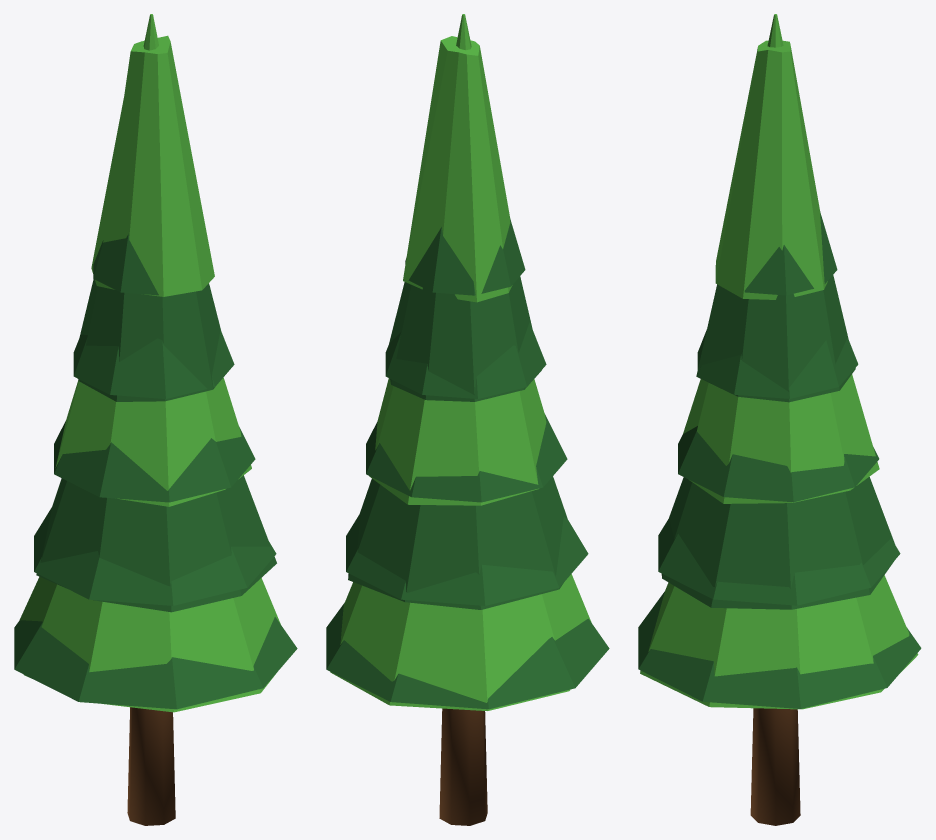
Rendered from hd_pine_b.gltf.
3 renders of one model, left to right at view 1: azimuth 30°, elevation 25°; view 2: azimuth 150°, elevation 25°; view 3: azimuth 270°, elevation 25°, orthographic.
Parts seen in each view (by area): view 1: tier4, tier1, tier0, lip0, tier2, tier3, lip1, lip2, lip3, trunk, lip4; view 2: tier0, tier4, tier1, tier2, tier3, lip0, lip1, trunk, lip2, lip3, lip4; view 3: tier1, tier4, tier0, tier2, tier3, lip0, lip2, lip1, trunk, lip3, lip4.
Part boxes in pixels (box(x1,y1,x2,y2)): tier4: box(91, 35, 214, 296); tier1: box(36, 475, 276, 612); tier0: box(19, 577, 280, 712); lip0: box(14, 617, 297, 709); tier2: box(55, 377, 251, 506); tier3: box(78, 279, 220, 401); lip1: box(34, 506, 276, 605); lip2: box(54, 421, 255, 502); lip3: box(73, 329, 234, 398); trunk: box(127, 707, 175, 825); lip4: box(93, 234, 158, 295); tier0: box(330, 574, 591, 710); tier4: box(403, 36, 512, 302); tier1: box(348, 476, 567, 609); tier2: box(369, 378, 546, 505); tier3: box(389, 276, 541, 401); lip0: box(326, 603, 609, 709); lip1: box(346, 512, 588, 605); trunk: box(439, 708, 487, 825); lip2: box(366, 414, 567, 502); lip3: box(385, 322, 546, 398); lip4: box(405, 217, 525, 295); tier1: box(661, 477, 894, 609); tier4: box(715, 40, 827, 299); tier0: box(640, 575, 918, 709); tier2: box(683, 374, 879, 503); tier3: box(696, 275, 855, 402); lip0: box(638, 591, 921, 708); lip2: box(678, 426, 879, 502); lip1: box(658, 518, 900, 605); trunk: box(750, 708, 800, 825); lip3: box(697, 329, 858, 398); lip4: box(744, 211, 837, 295).
Size of the model in its own units: 1.84 by 5.67 by 1.82.
